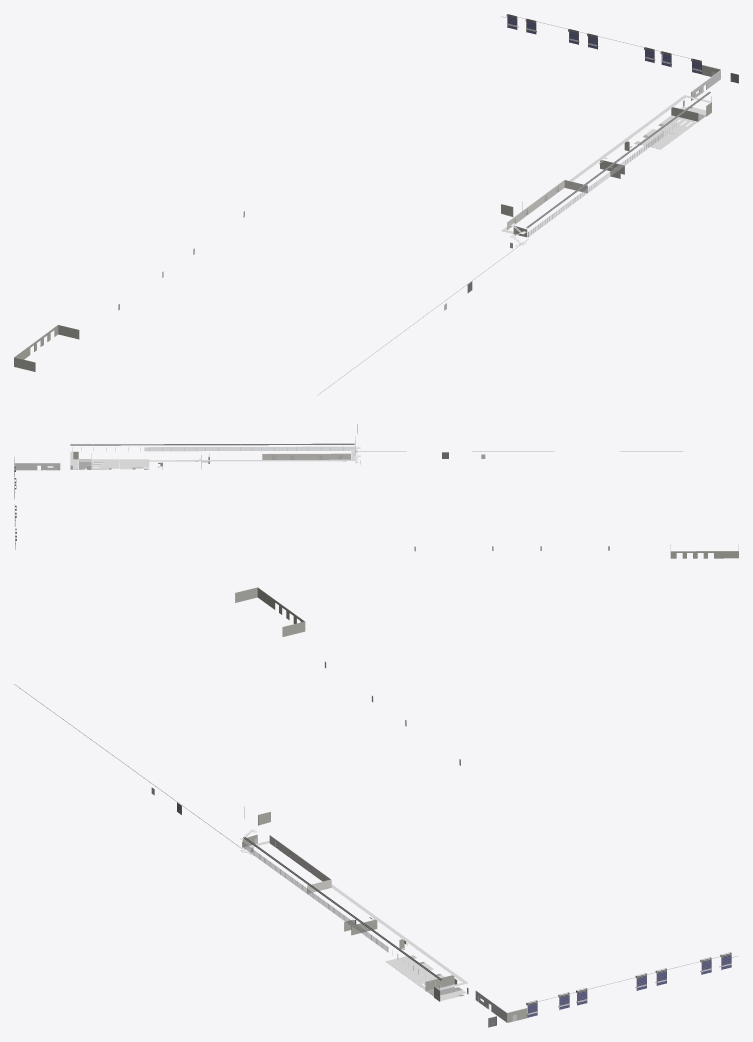
The model's file is pt-108-mantenimiento-mayor-hq-p04.glb.
The picture shows the model from 3 angles, top to bottom: view 1: azimuth 30°, elevation 25°; view 2: azimuth 150°, elevation 25°; view 3: azimuth 270°, elevation 25°; orthographic projection. The views are drawn at different scales.
Visible parts, largest first — view 1: no part large enough to name; view 2: 2HzcRNOSPBLPLrz2XAbur5, 2HzcRNOSPBLPLrz2XAbusr, 3RE5FMqT1Eav50ChEstCMf, 2RfXo4eLf6H8nXumLDgrYj, 2vsmBT15r2veqcQg_YNSwR, 1npwq8jBr428OjwmxH$Wjq, 0P0_UzTTHFJRbHIJNnXnUW; view 3: 2HzcRNOSPBLPLrz2XAbur5.
Boxes of the visible parts, x1,y1,x2,y2 form: 2HzcRNOSPBLPLrz2XAbur5: (70, 451, 355, 461); 2HzcRNOSPBLPLrz2XAbusr: (262, 453, 350, 459); 3RE5FMqT1Eav50ChEstCMf: (70, 443, 354, 445); 2RfXo4eLf6H8nXumLDgrYj: (671, 551, 738, 558); 2vsmBT15r2veqcQg_YNSwR: (14, 463, 60, 470); 1npwq8jBr428OjwmxH$Wjq: (91, 459, 119, 469); 0P0_UzTTHFJRbHIJNnXnUW: (120, 459, 149, 469); 2HzcRNOSPBLPLrz2XAbur5: (243, 840, 468, 990).
Bounding box in the file's own units: 369 × 19.95 × 262.
